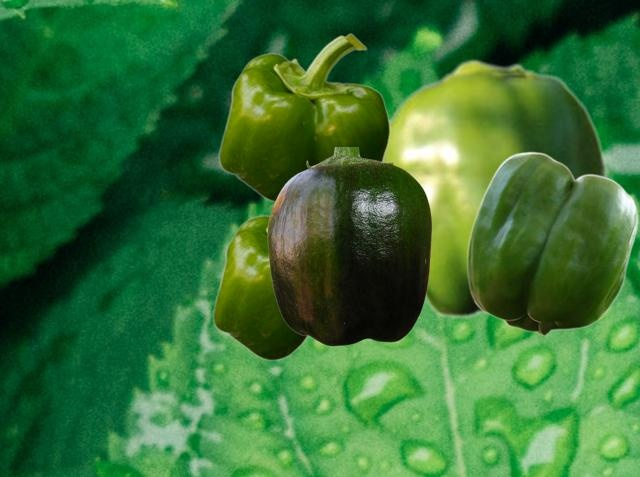bell_pepper: (385, 58, 607, 318), (267, 147, 431, 345), (466, 151, 637, 335), (218, 33, 389, 202), (212, 214, 308, 360)
